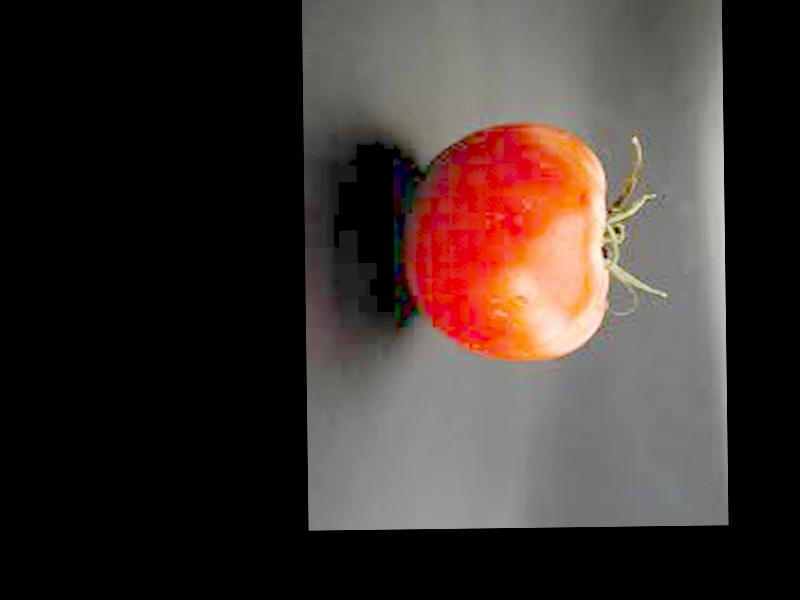Tomato: (406, 123, 609, 364)
